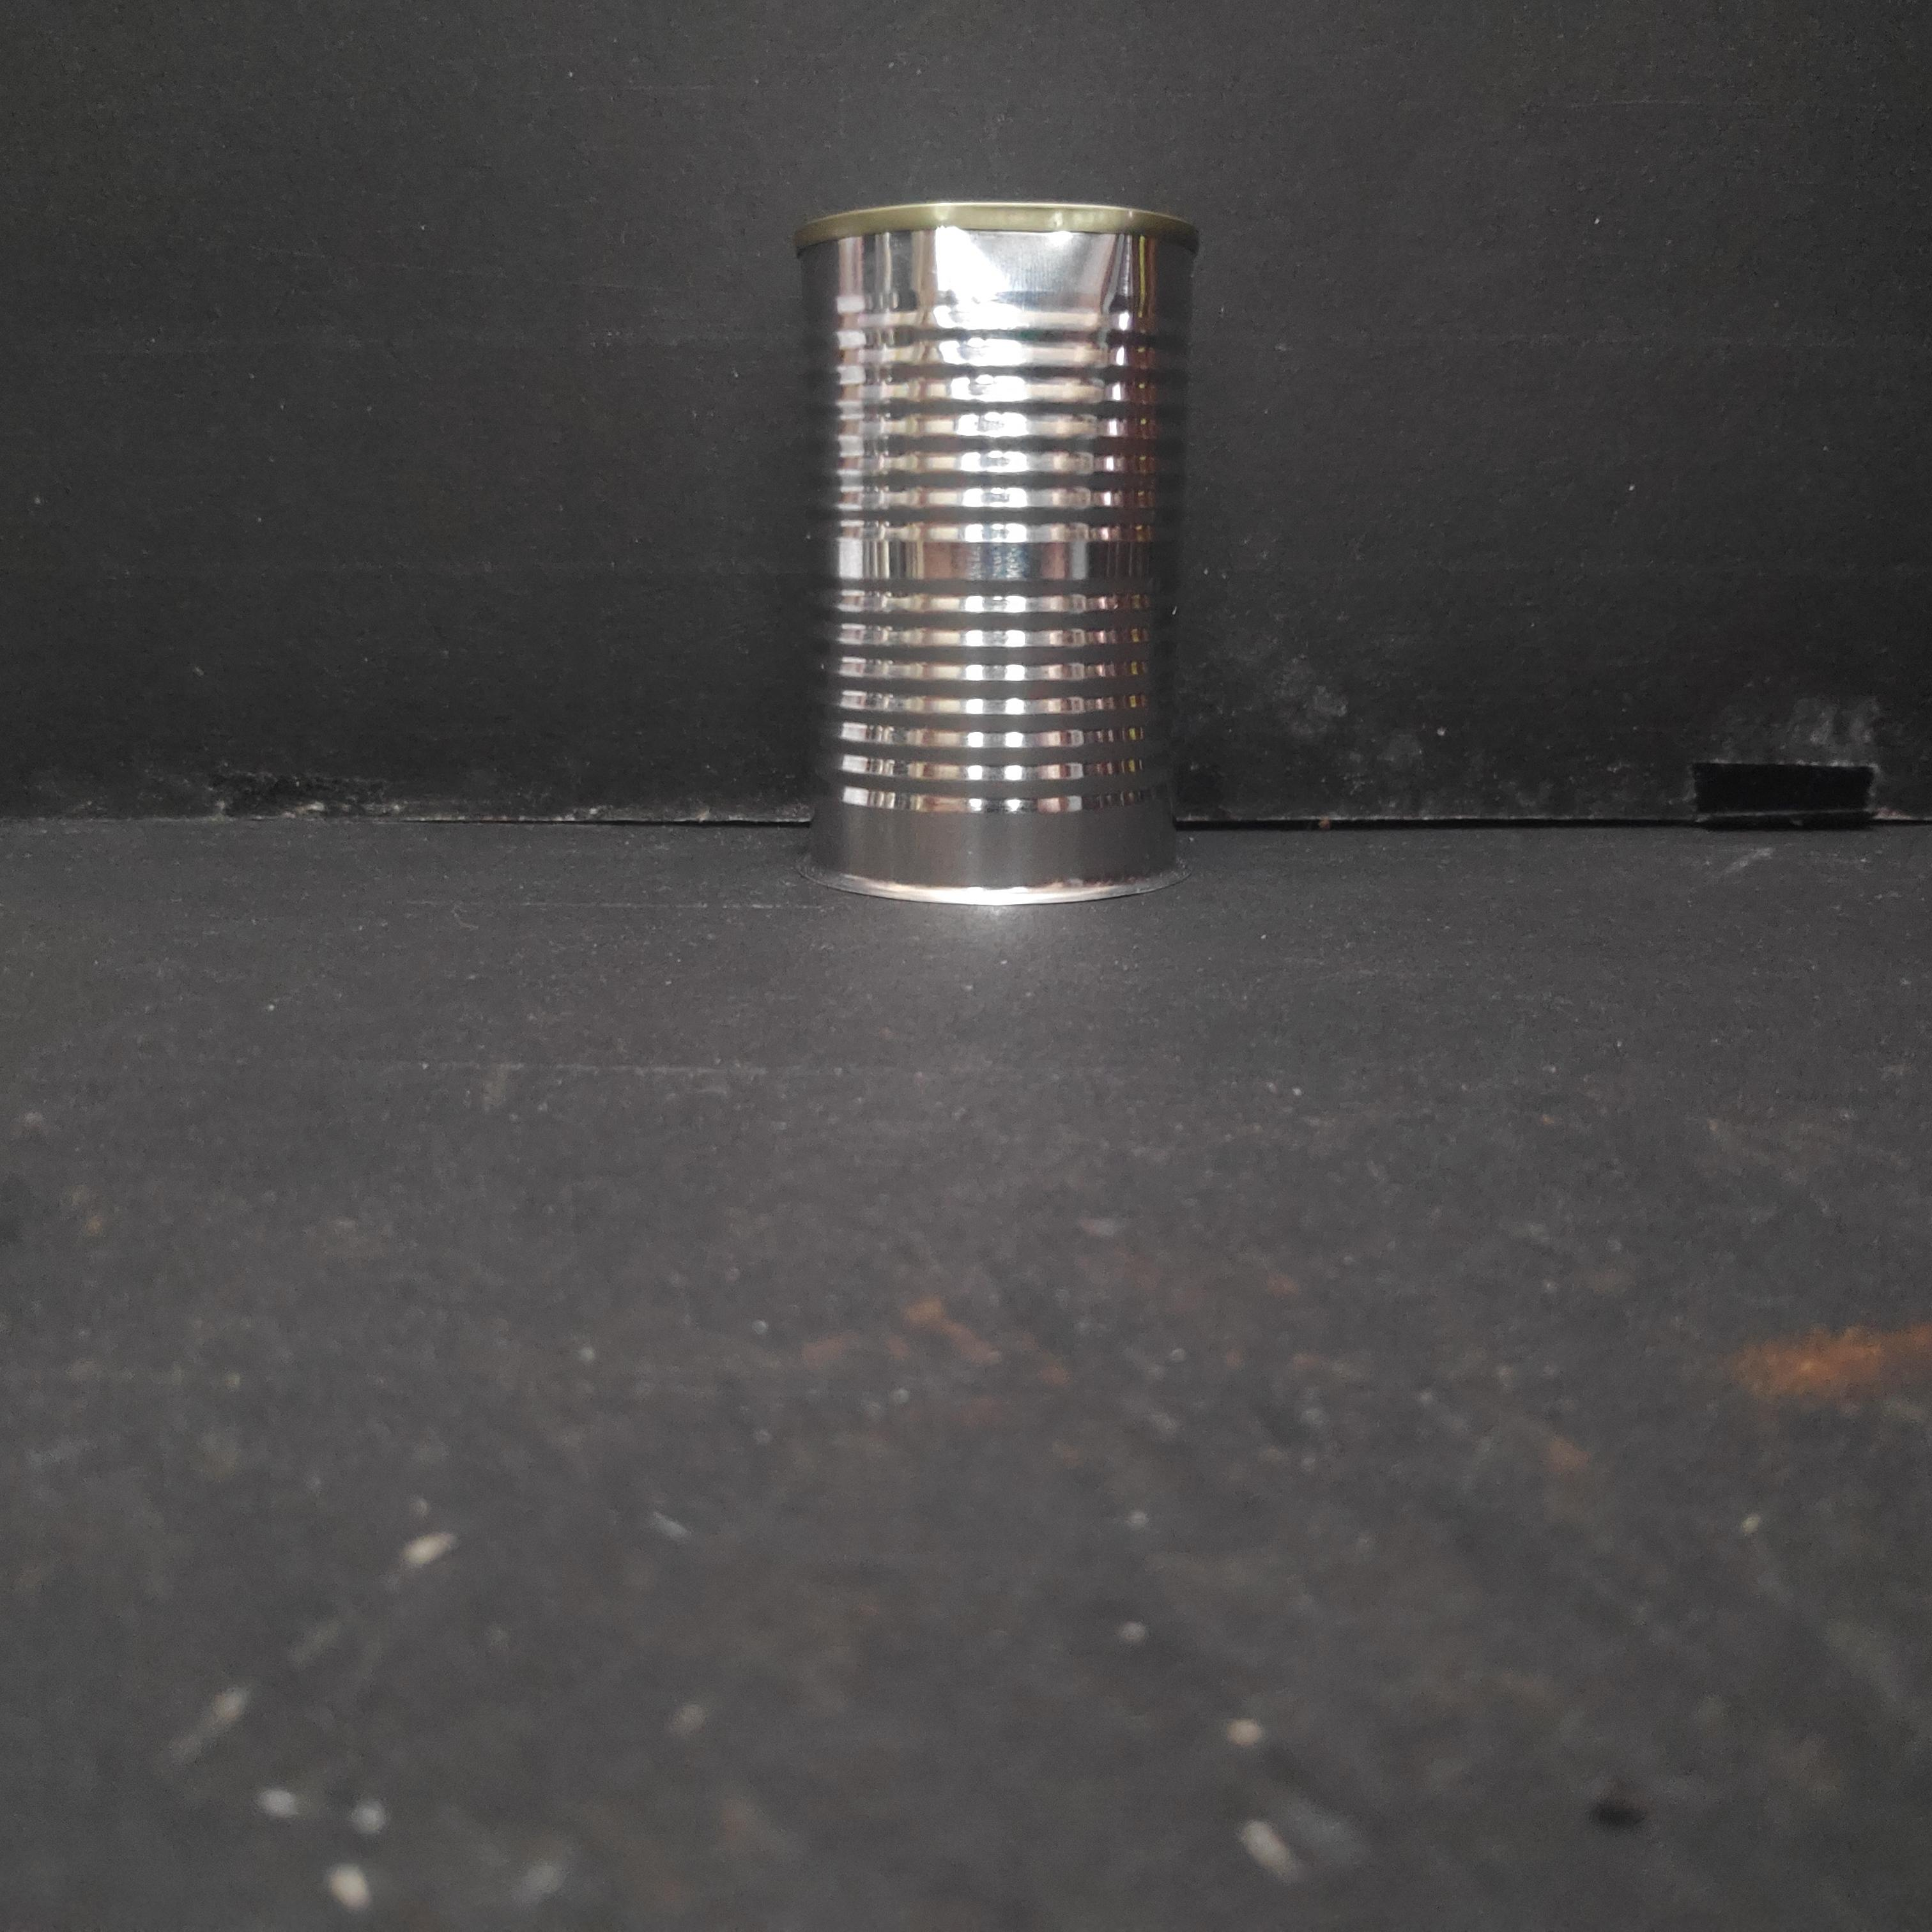Minor Defect: (787, 177, 1210, 916)
